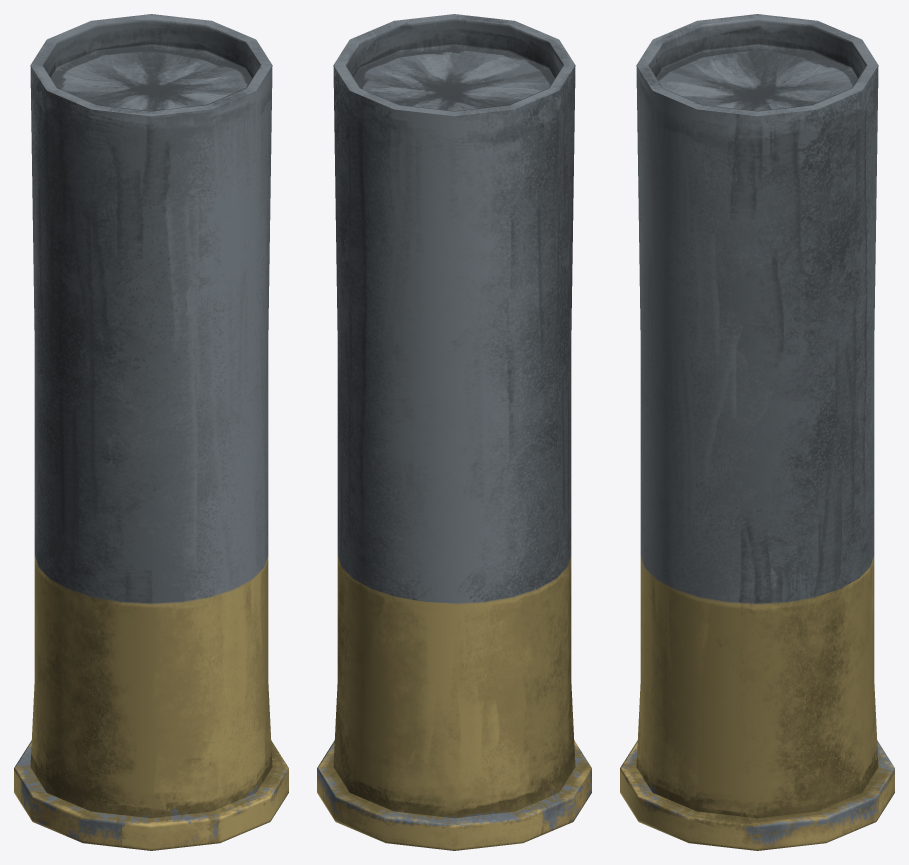
The model's file is ShotgunScrapshotShell.glb.
3 renders of one model, left to right at view 1: azimuth 30°, elevation 25°; view 2: azimuth 150°, elevation 25°; view 3: azimuth 270°, elevation 25°, orthographic.
Visible parts, largest first — view 1: ShotgunScrapshotShell; view 2: ShotgunScrapshotShell; view 3: ShotgunScrapshotShell.
Boxes of the visible parts, bbox=[...] form: ShotgunScrapshotShell: bbox=[14, 14, 288, 850]; ShotgunScrapshotShell: bbox=[317, 14, 591, 850]; ShotgunScrapshotShell: bbox=[620, 14, 894, 850].
Bounding box in the file's own units: 0.0436 × 0.1276 × 0.0436.
Materials: 1 (1 with a texture image).
